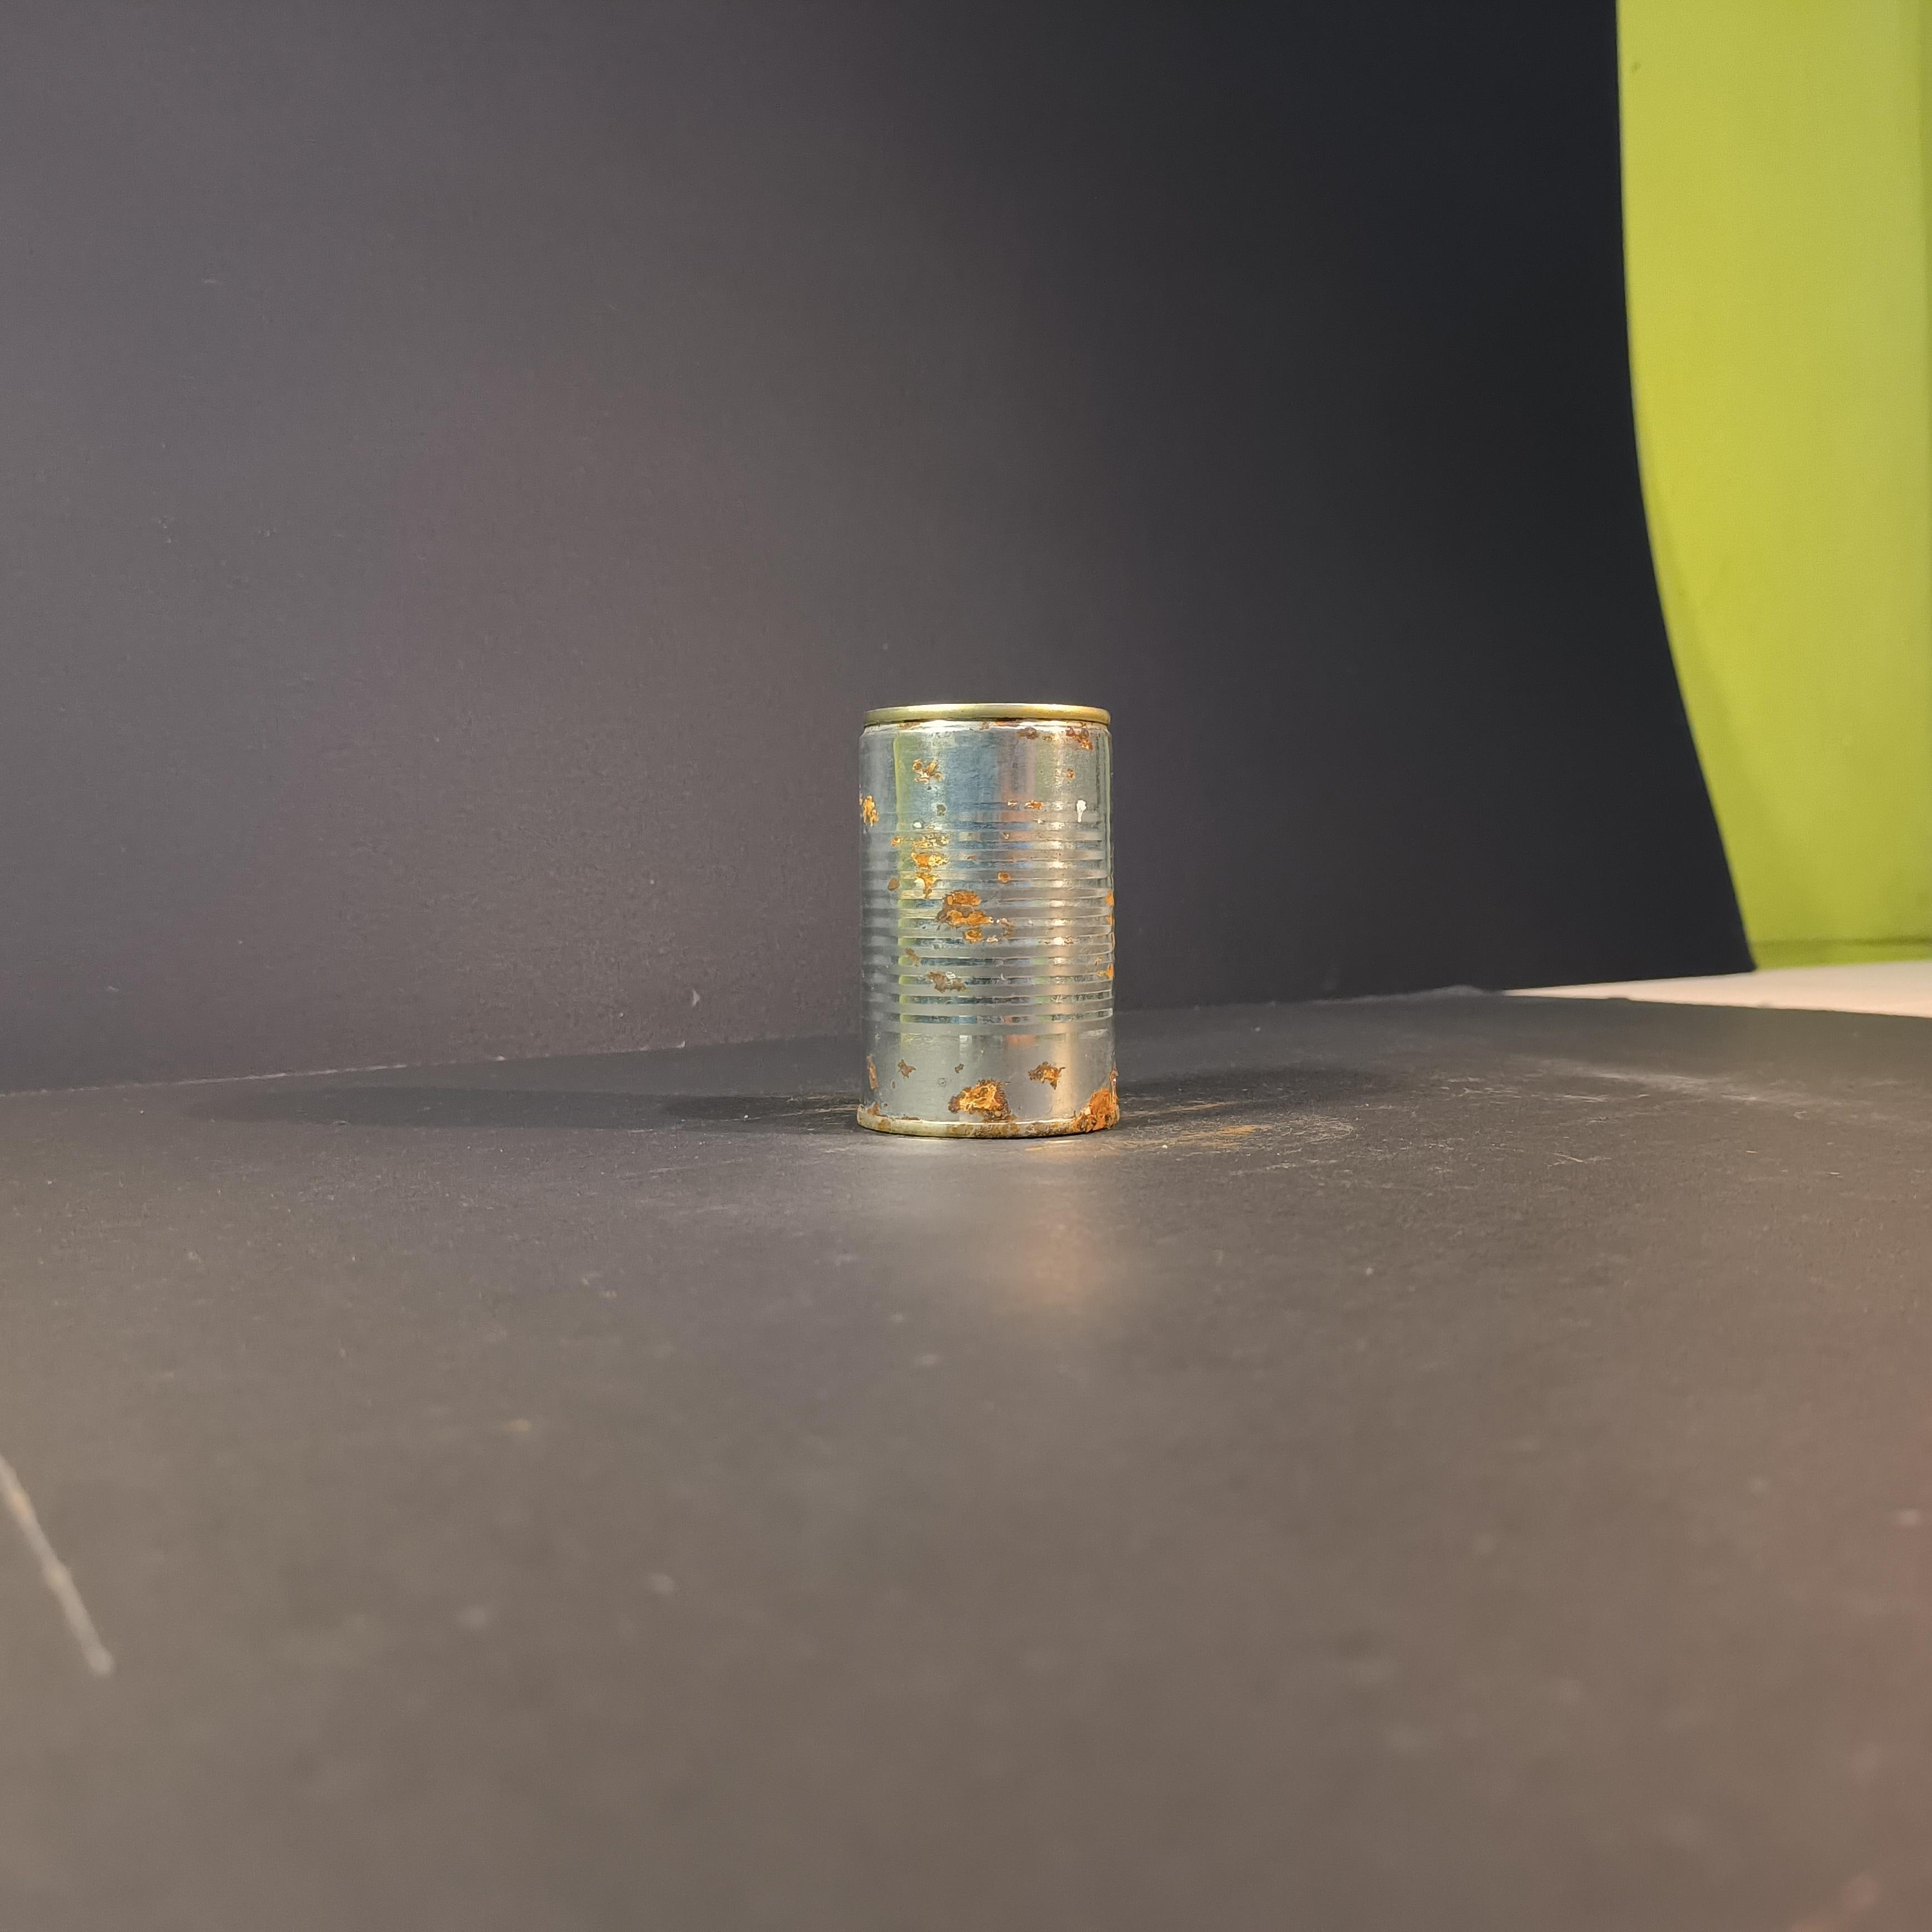Rusted: (846, 686, 1152, 1162)
